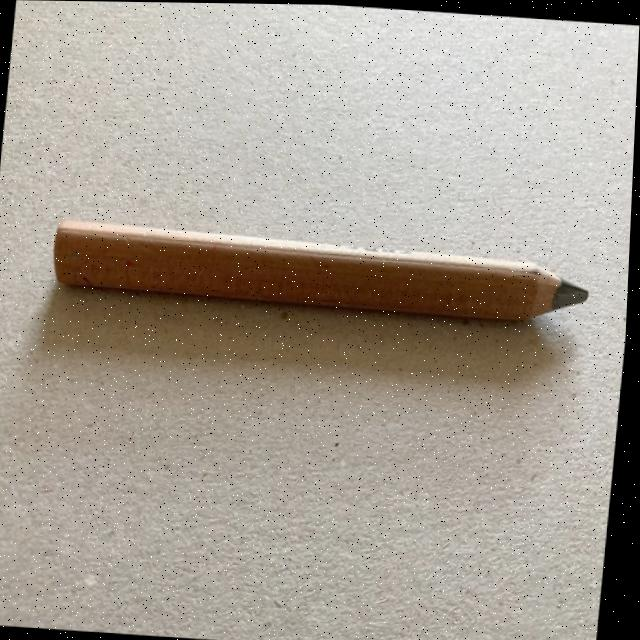pencil: (42, 198, 606, 349)
